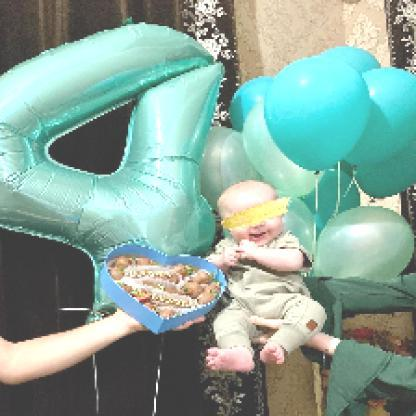child: (207, 178, 328, 375)
